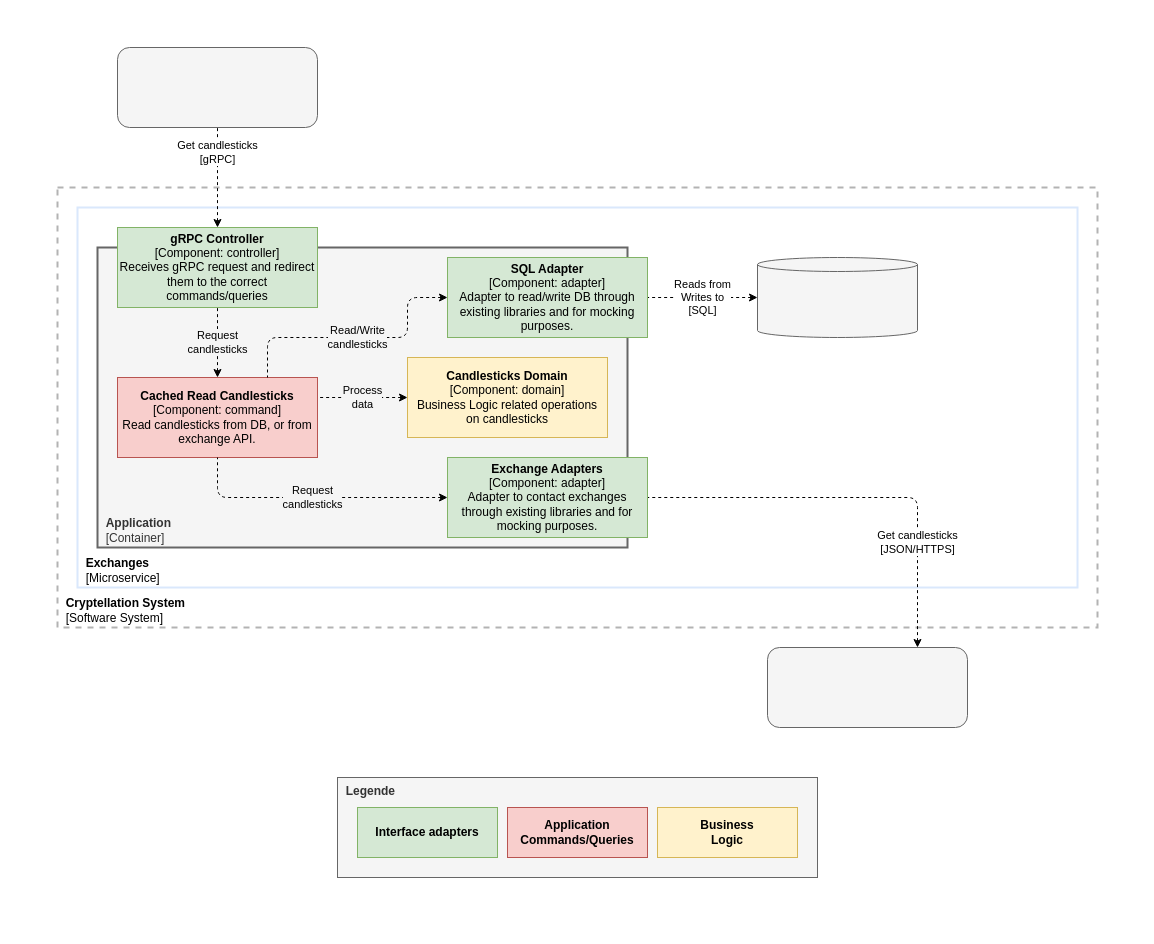
The diagram is 1154 pixels wide and 944 high, and some of its shapes have lost their labels. The centre of each missing label's shape, as x and y in pixels:
"Database [SQL Database] Stores candlesticks for further reuse" belongs at point (837, 297).
"Exchanges [Internet Service] API that exchanges provides to get informations." belongs at point (867, 687).
"User [Application] Application that a user will run to execute its strategies." belongs at point (217, 87).
